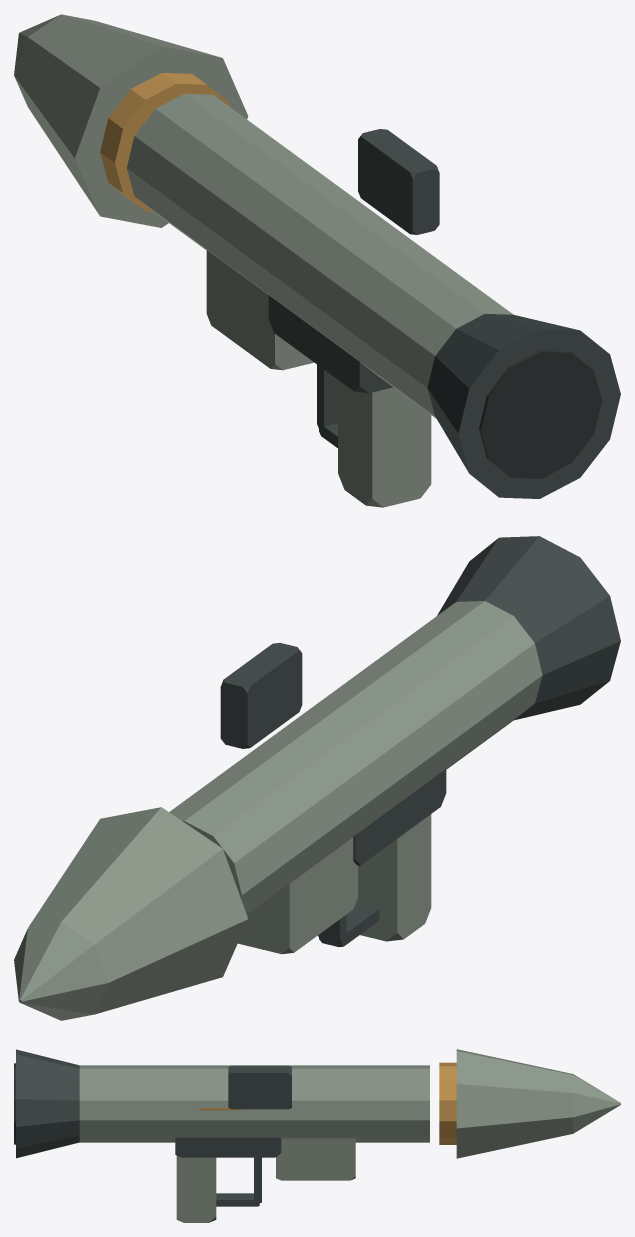
The model's file is weapon_rpg.glb.
3 renders of one model, top to bottom at view 1: azimuth 30°, elevation 25°; view 2: azimuth 150°, elevation 25°; view 3: azimuth 270°, elevation 25°, orthographic. The views are drawn at different scales.
Parts seen in each view (by area): view 1: weapon_rpg; view 2: weapon_rpg; view 3: weapon_rpg.
Part boxes in pixels (x1,y1,x2,y2): weapon_rpg: (14, 14, 620, 507); weapon_rpg: (14, 536, 620, 1020); weapon_rpg: (14, 1049, 620, 1222).
Size of the model in its own units: 0.2197 by 0.3421 by 1.14.
